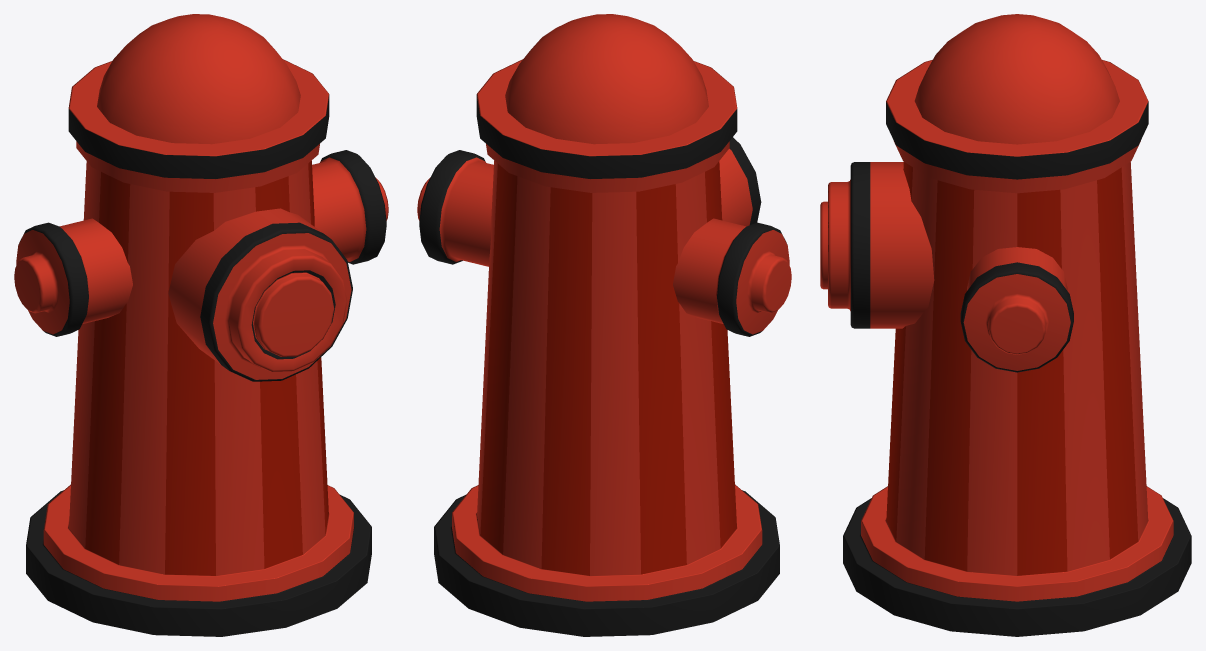
The model's file is SM_Hydrant_01.fbx.
3 views of the same model, side by side, from view 1: azimuth 30°, elevation 25°; view 2: azimuth 150°, elevation 25°; view 3: azimuth 270°, elevation 25° (orthographic).
Visible parts, largest first — view 1: Hydrant; view 2: Hydrant; view 3: Hydrant.
Part boxes in pixels (bbox=[...]): Hydrant: bbox=[14, 14, 388, 636]; Hydrant: bbox=[417, 14, 791, 636]; Hydrant: bbox=[820, 14, 1191, 636].
Size of the model in its own units: 172 by 254 by 158.
